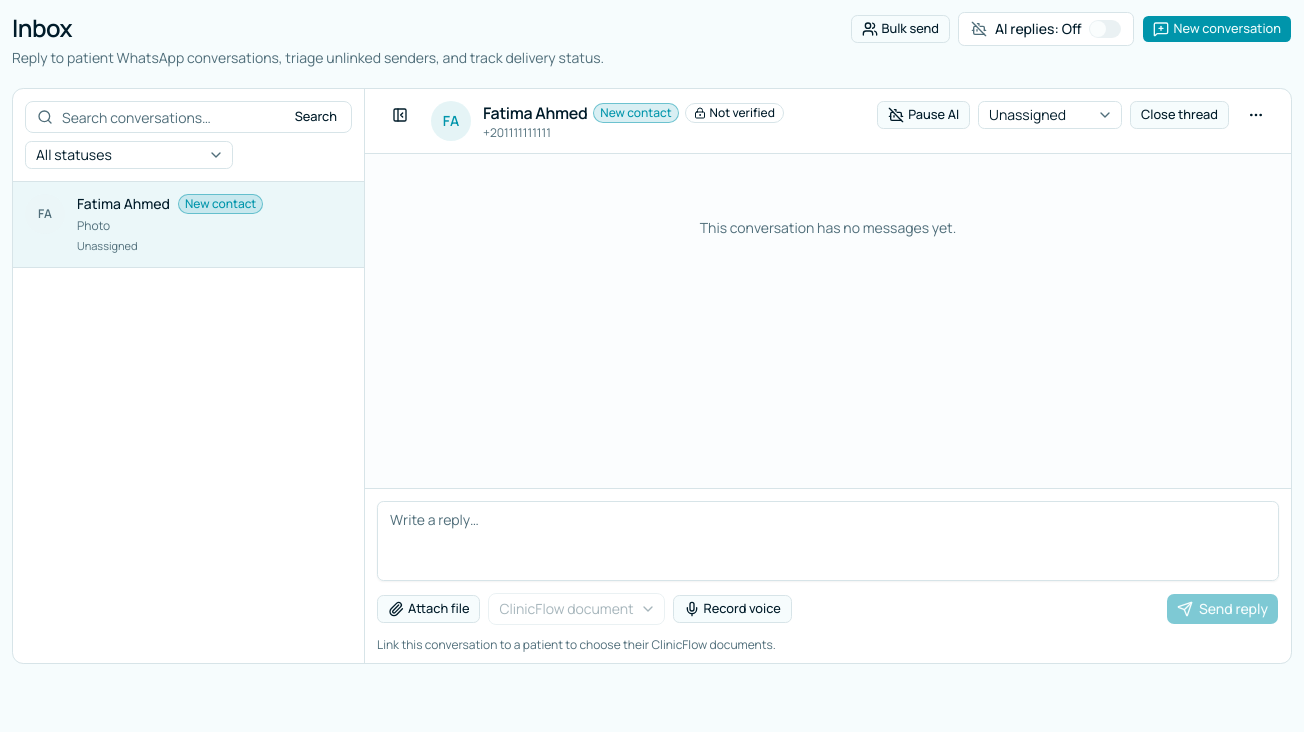
Scenario: P11Q — bulk selection is opt-in › leaves selection mode cleanly on cancel
Click the button with test id "bulk-start-selecting".
click(900, 29)  # box [850,15,950,43]
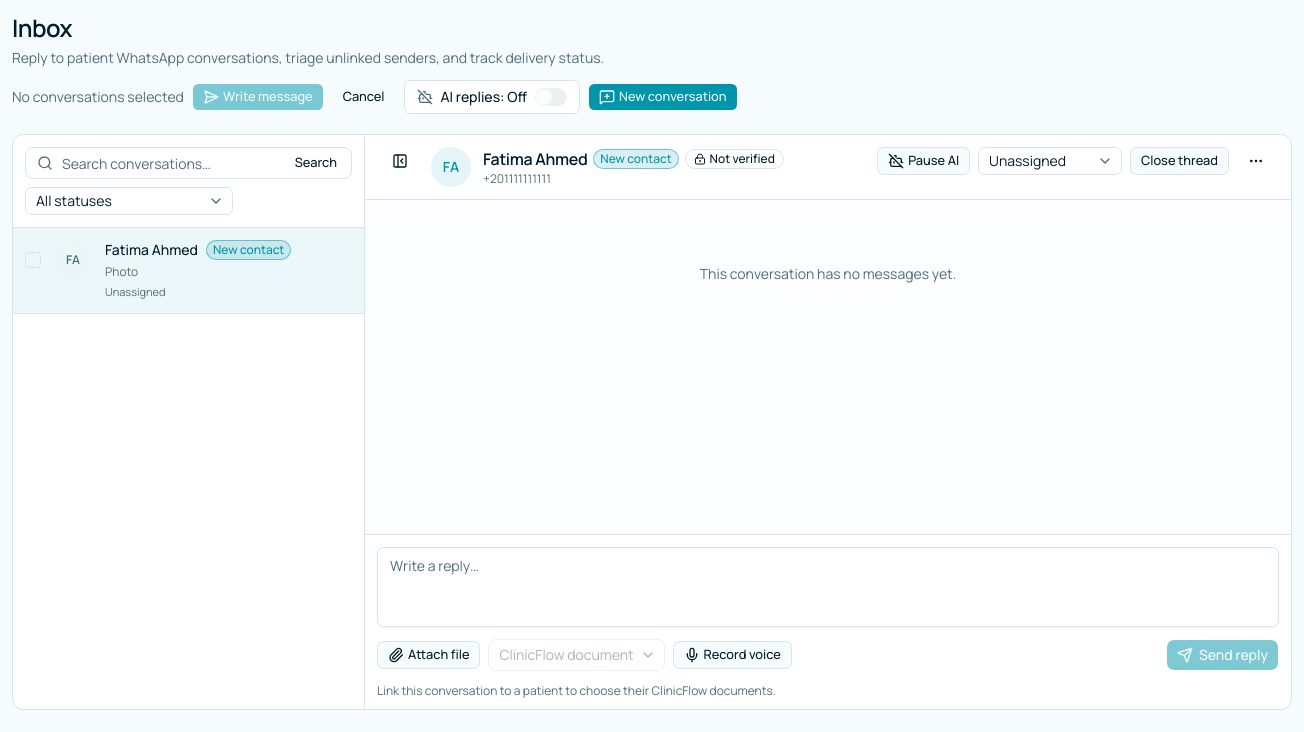
Click the checkbox with test id "bulk-selectable-row".
click(73, 260)  # box [13,228,364,314]
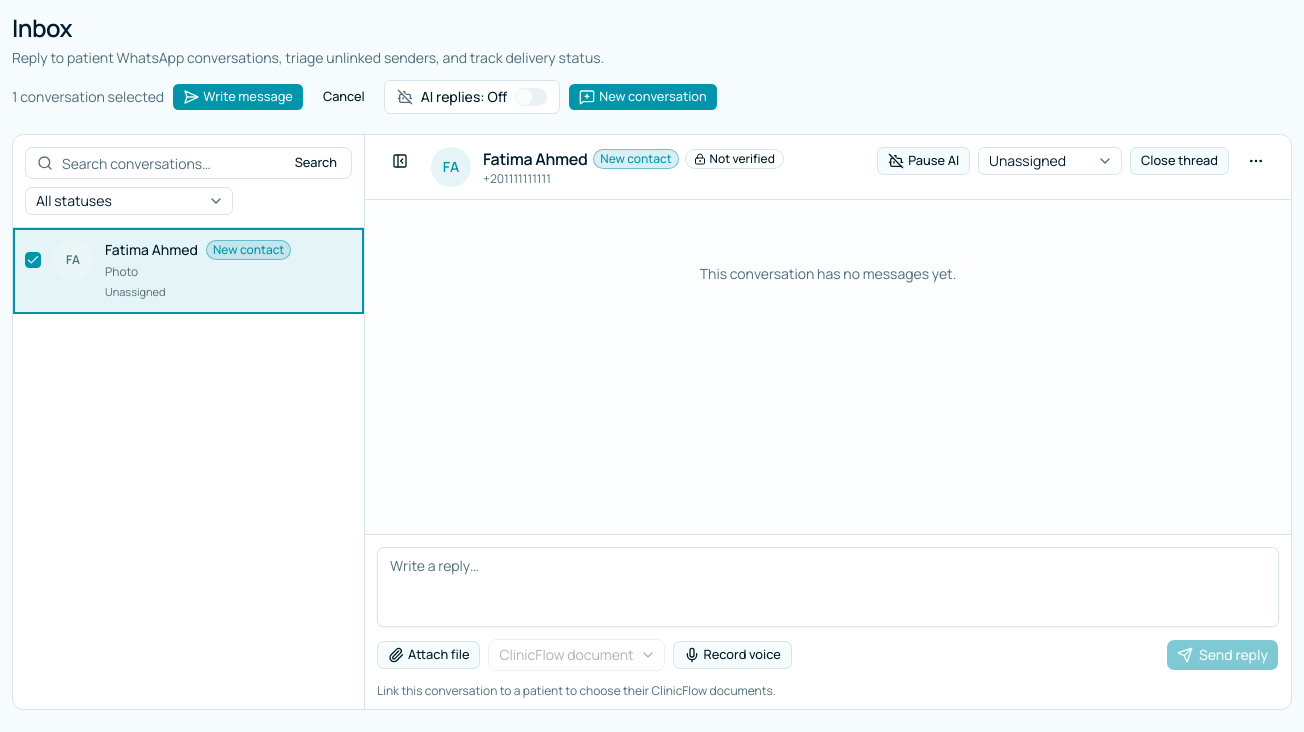
Click the button with test id "bulk-cancel".
click(344, 97)  # box [312,83,376,111]
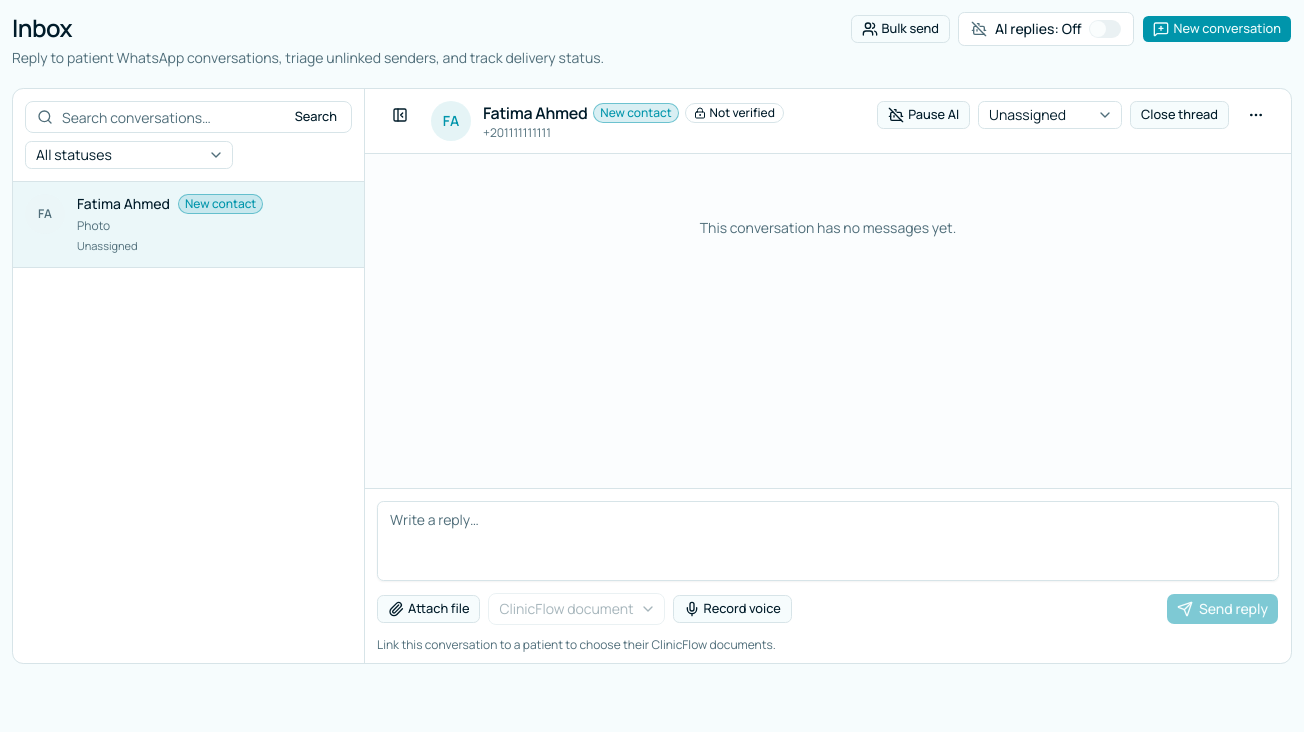
Check: no checkboxes with test id "bulk-selectable-row" are shown
Check: the button with test id "bulk-start-selecting" is shown, box [850,15,950,43]
